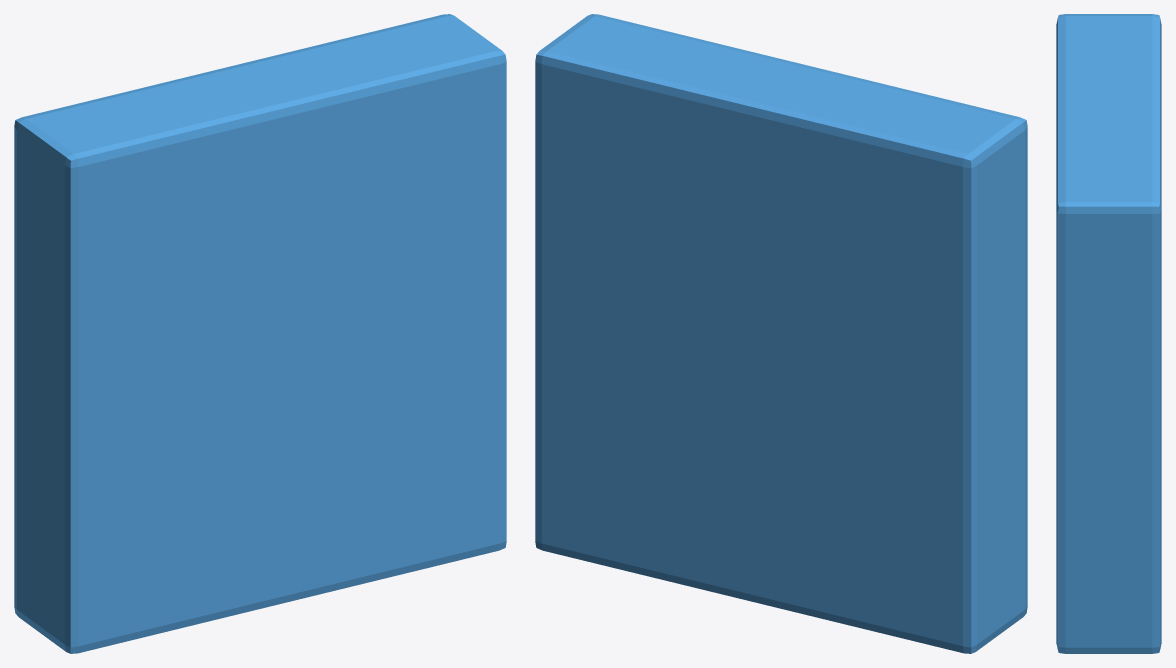
Rendered from chest__chest_core__base.glb.
3 views of the same model, side by side, from view 1: azimuth 30°, elevation 25°; view 2: azimuth 150°, elevation 25°; view 3: azimuth 270°, elevation 25° (orthographic). The views are drawn at different scales.
Visible parts, largest first — view 1: armor_chest__chest_core__base_v001; view 2: armor_chest__chest_core__base_v001; view 3: armor_chest__chest_core__base_v001.
Boxes of the visible parts, box(x1,y1,x2,y2) form: armor_chest__chest_core__base_v001: box(14, 14, 506, 653); armor_chest__chest_core__base_v001: box(535, 14, 1027, 653); armor_chest__chest_core__base_v001: box(1056, 14, 1161, 653).
Bounding box in the file's own units: 0.1488 × 0.1612 × 0.0341.
